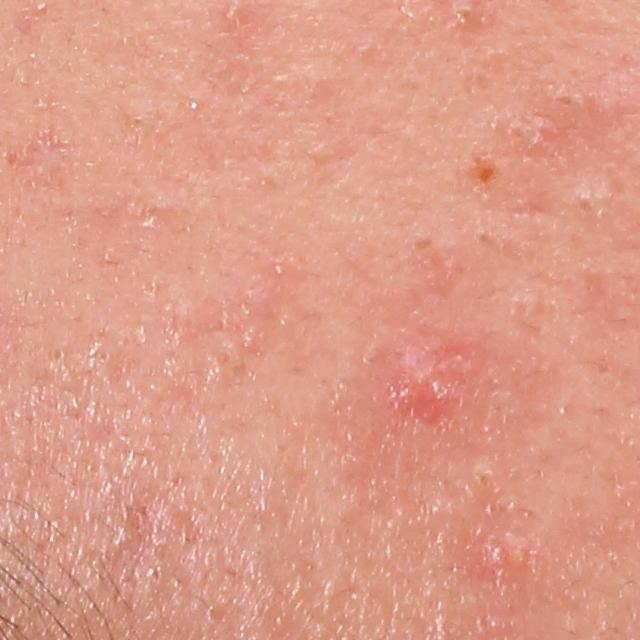comedo: (43, 343, 69, 368), (577, 193, 600, 220), (125, 113, 146, 134)
